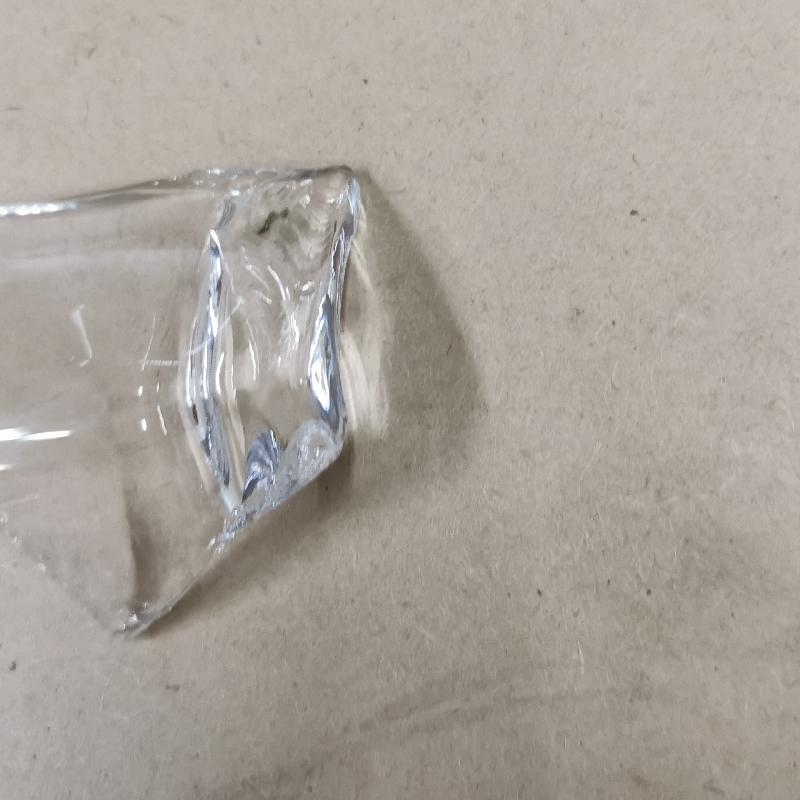glass: (2, 160, 391, 642)
